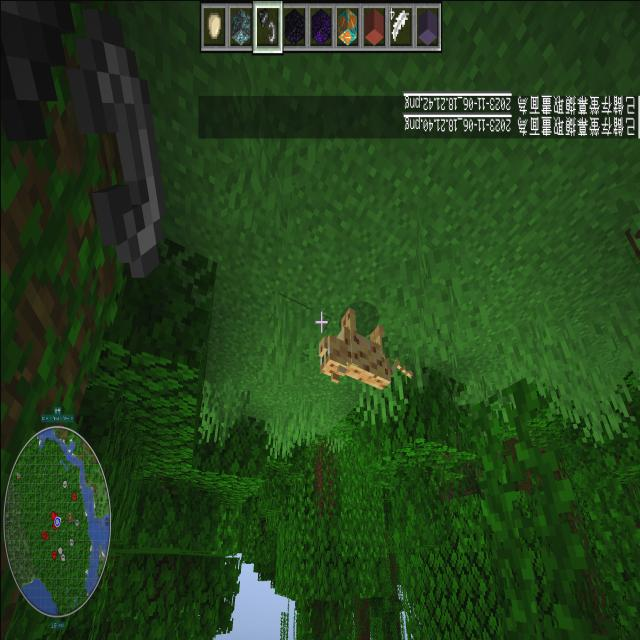Ocelot: (310, 294, 416, 400)
